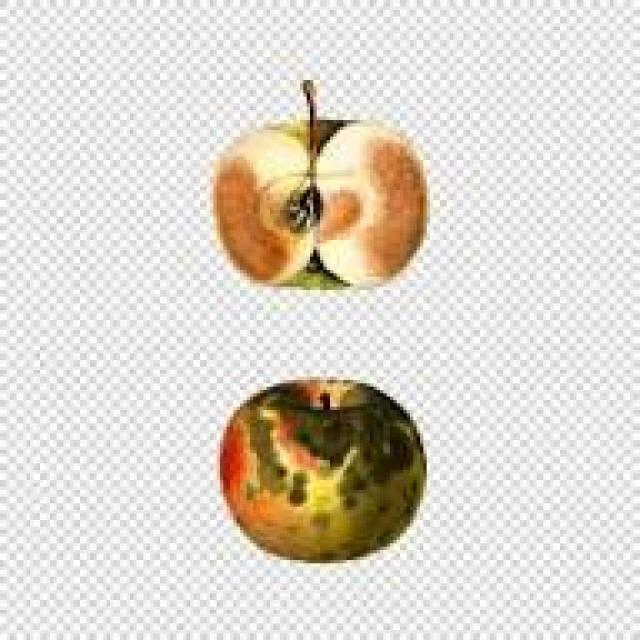Rotten Apple: (210, 122, 429, 287), (220, 379, 424, 556)
